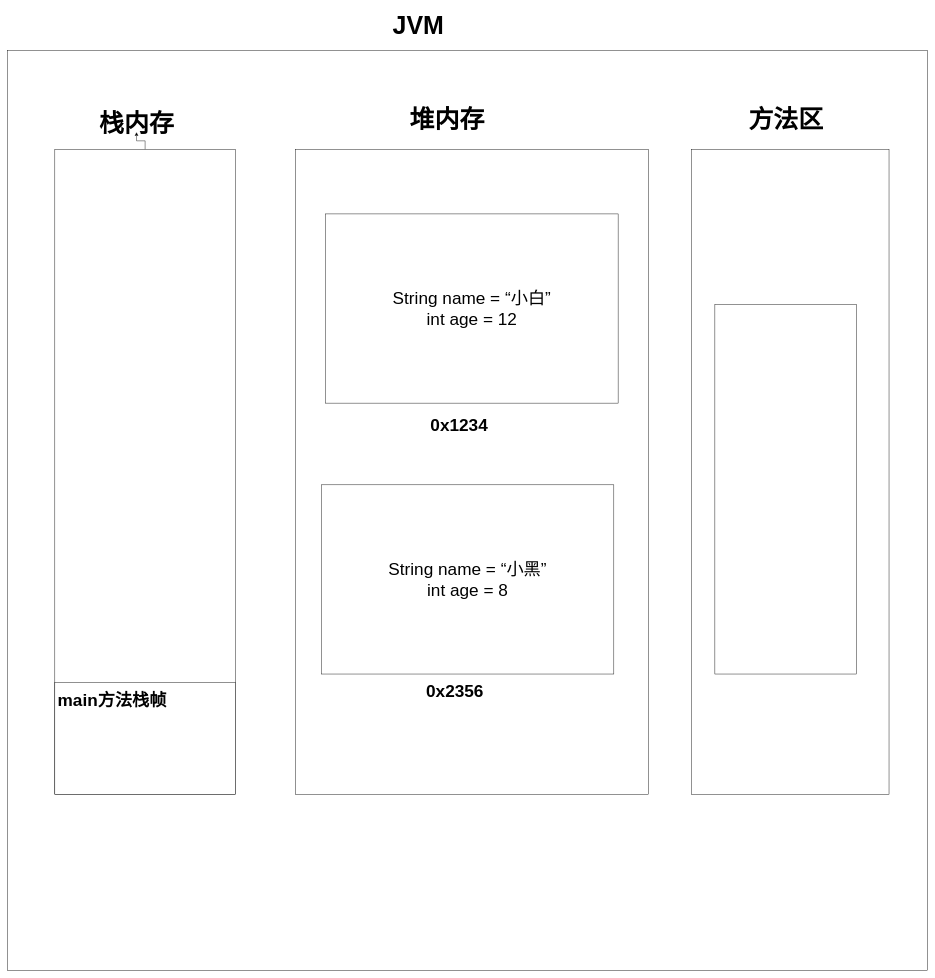
This 935x978 diagram has some shape labels left out. The shapes that lost their labels are listed below. From the top down, each one's box as (x1, y1, x2, y2) in pixels, then its label:
(714, 304, 857, 674): Cat.class OOP01.class String.class
(54, 682, 235, 794): Cat cat1 = 0x1234 Cat cat2 = 0x2356
